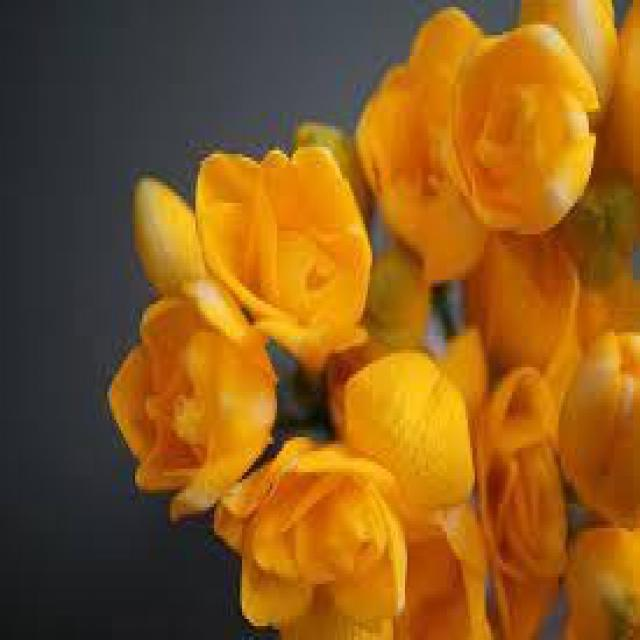freesia: (89, 286, 298, 526), (187, 136, 397, 368), (447, 28, 624, 246), (225, 438, 410, 636), (459, 336, 582, 593)
